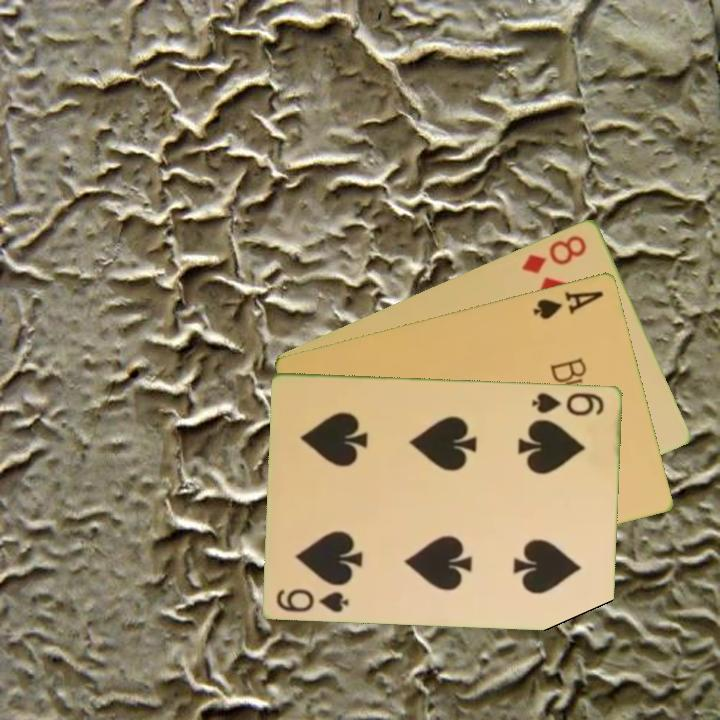6s: (529, 388, 608, 419), (273, 584, 352, 615)
8d: (518, 231, 590, 277)
As: (530, 286, 607, 322)
